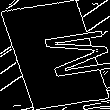M_W: (11, 27, 99, 83)
